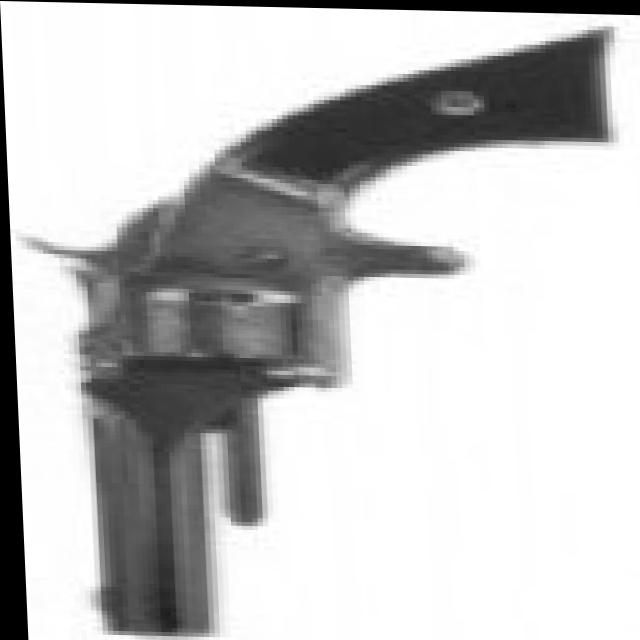handgun: (21, 12, 625, 640)
